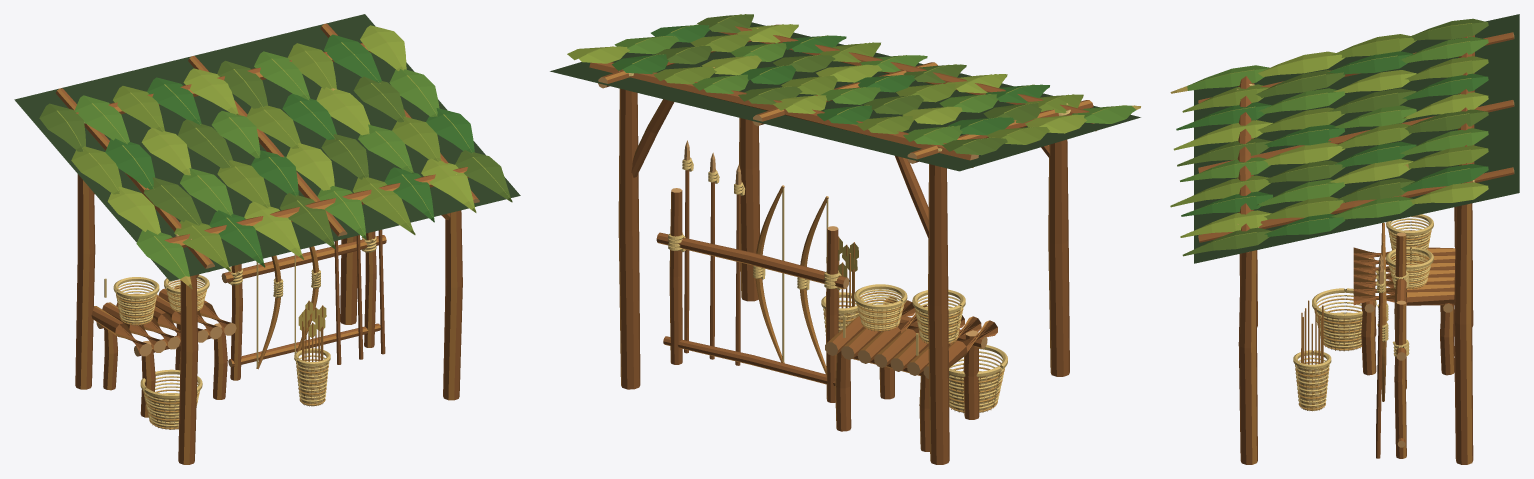
Rendered from centro_caca_nivel_1.glb.
3 views of the same model, side by side, from view 1: azimuth 30°, elevation 25°; view 2: azimuth 150°, elevation 25°; view 3: azimuth 270°, elevation 25° (orthographic). The views are drawn at different scales.
Parts seen in each view (by area): view 1: Oca_Forro.008, Oca_Madeira.008, Oca_FolhaMusgo.014, Oca_FolhaVerde.014, Oca_FolhaLima.014, Oca_FolhaJade.029, Oca_FolhaOliva.014, Oca_MadeiraClara.008, Oca_Fibras.008, Oca_FibraMel.008, Oca_Nervuras.014, Oca_FibraClara.008 (+2 smaller); view 2: Oca_Madeira.008, Oca_Forro.008, Oca_MadeiraClara.008, Oca_Fibras.008, Oca_FolhaMusgo.014, Oca_FolhaLima.014, Oca_FolhaVerde.014, Oca_FolhaJade.029, Oca_FolhaOliva.014, Oca_FibraMel.008, Oca_CorteMadeira.008, Oca_Nervuras.014 (+1 smaller); view 3: Oca_Forro.008, Oca_Madeira.008, Oca_FolhaVerde.014, Oca_FolhaMusgo.014, Oca_FolhaLima.014, Oca_FolhaJade.029, Oca_FolhaOliva.014, Oca_MadeiraClara.008, Oca_Fibras.008, Oca_FibraMel.008, Oca_Nervuras.014, Oca_FibraClara.008 (+1 smaller).
Boxes of the visible parts, bbox=[...] form: Oca_Forro.008: bbox=[14, 14, 520, 281]; Oca_Madeira.008: bbox=[56, 23, 477, 464]; Oca_FolhaMusgo.014: bbox=[39, 60, 512, 249]; Oca_FolhaVerde.014: bbox=[74, 51, 439, 278]; Oca_FolhaLima.014: bbox=[107, 25, 476, 259]; Oca_FolhaJade.029: bbox=[105, 34, 474, 267]; Oca_FolhaOliva.014: bbox=[71, 43, 440, 271]; Oca_MadeiraClara.008: bbox=[57, 24, 474, 464]; Oca_Fibras.008: bbox=[84, 122, 456, 429]; Oca_FibraMel.008: bbox=[116, 280, 328, 429]; Oca_Nervuras.014: bbox=[57, 32, 508, 281]; Oca_FibraClara.008: bbox=[118, 292, 328, 429]; Oca_Madeira.008: bbox=[589, 24, 1093, 464]; Oca_Forro.008: bbox=[550, 22, 1140, 171]; Oca_MadeiraClara.008: bbox=[605, 62, 1095, 462]; Oca_Fibras.008: bbox=[619, 28, 1070, 412]; Oca_FolhaMusgo.014: bbox=[655, 14, 1041, 155]; Oca_FolhaLima.014: bbox=[567, 24, 1086, 133]; Oca_FolhaVerde.014: bbox=[614, 36, 1136, 145]; Oca_FolhaJade.029: bbox=[612, 25, 1049, 135]; Oca_FolhaOliva.014: bbox=[653, 34, 1083, 144]; Oca_FibraMel.008: bbox=[823, 292, 1004, 413]; Oca_CorteMadeira.008: bbox=[598, 77, 1096, 378]; Oca_Nervuras.014: bbox=[587, 14, 1134, 145]; Oca_Forro.008: bbox=[1194, 14, 1519, 263]; Oca_Madeira.008: bbox=[1198, 32, 1513, 464]; Oca_FolhaVerde.014: bbox=[1180, 36, 1488, 219]; Oca_FolhaMusgo.014: bbox=[1177, 18, 1488, 256]; Oca_FolhaLima.014: bbox=[1173, 51, 1488, 237]; Oca_FolhaJade.029: bbox=[1176, 51, 1488, 236]; Oca_FolhaOliva.014: bbox=[1170, 34, 1488, 219]; Oca_MadeiraClara.008: bbox=[1237, 38, 1472, 464]; Oca_Fibras.008: bbox=[1237, 84, 1474, 410]; Oca_FibraMel.008: bbox=[1295, 221, 1431, 411]; Oca_Nervuras.014: bbox=[1190, 23, 1472, 246]; Oca_FibraClara.008: bbox=[1295, 232, 1430, 410].
Size of the model in its own units: 4.13 by 3.06 by 3.29.
